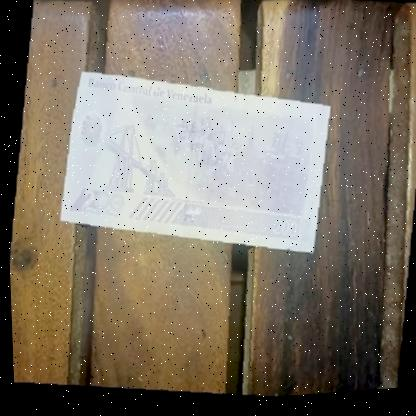two_hundred-back-vef: (50, 55, 338, 274)
